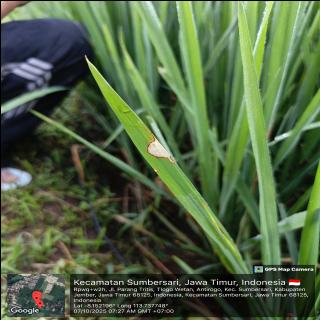Blast: (145, 132, 175, 163)
